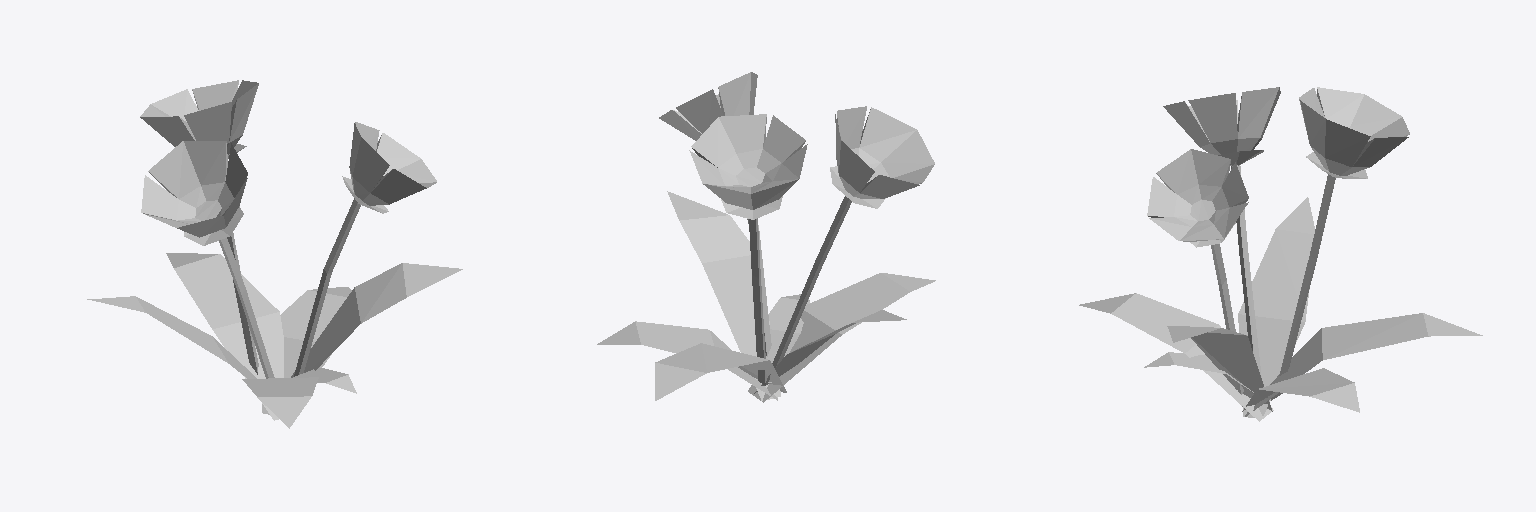
Rendered from carnations_black.obj.
3 views of the same model, side by side, from view 1: azimuth 30°, elevation 25°; view 2: azimuth 150°, elevation 25°; view 3: azimuth 270°, elevation 25° (orthographic).
Parts seen in each view (by area): view 1: carnations_6; view 2: carnations_6; view 3: carnations_6.
Part boxes in pixels (left/top/right/bottom): carnations_6: left=87, top=80, right=462, bottom=428; carnations_6: left=597, top=72, right=935, bottom=402; carnations_6: left=1079, top=87, right=1482, bottom=421.
Bounding box in the file's own units: 0.7997 × 0.749 × 0.9086.